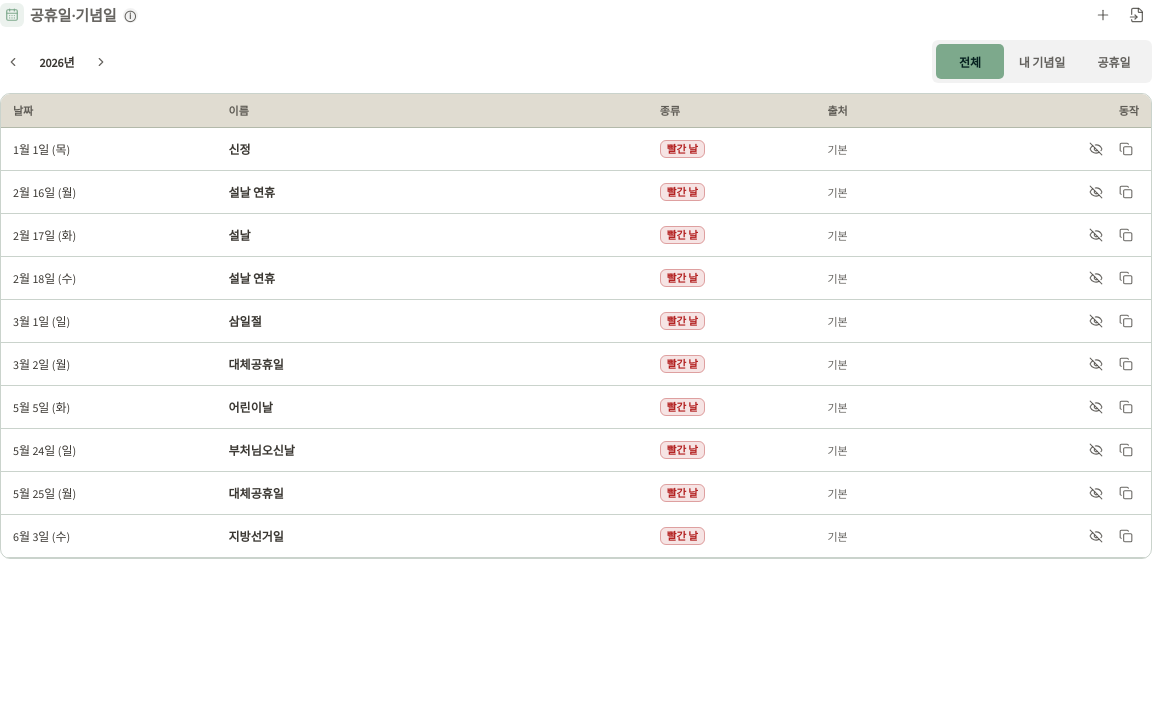
DayMarksSection — 공휴일·기념일 표 (PLAN-2026-09-19-calendar-schedule §5.2) › URL 칸이 못 읽는 주소면 주소 오류를 먼저 — 손 안 댄 이름 칸을 탓하지 않는다
The image size is (1152, 720).
Click the button with test id "day-marks-import-btn". click: (1137, 15)
box: top-left (1122, 0), bottom-right (1151, 30)
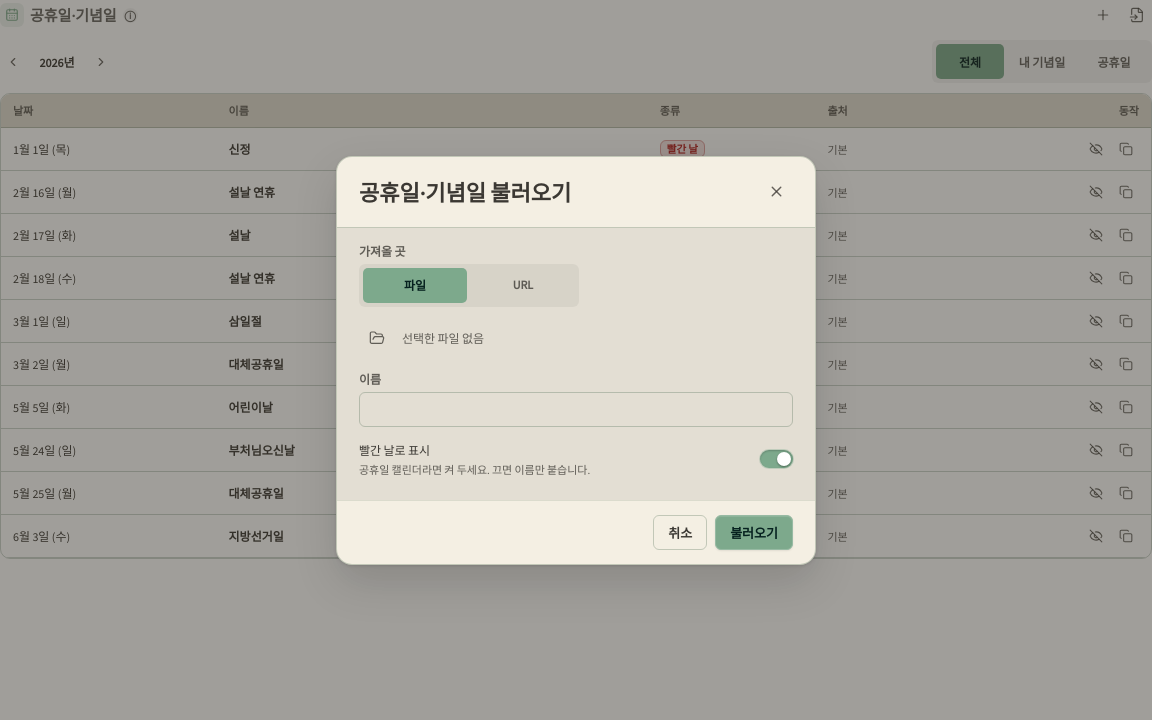
Click the radio button labelled "URL". click: (523, 285)
box: top-left (471, 268), bottom-right (575, 302)
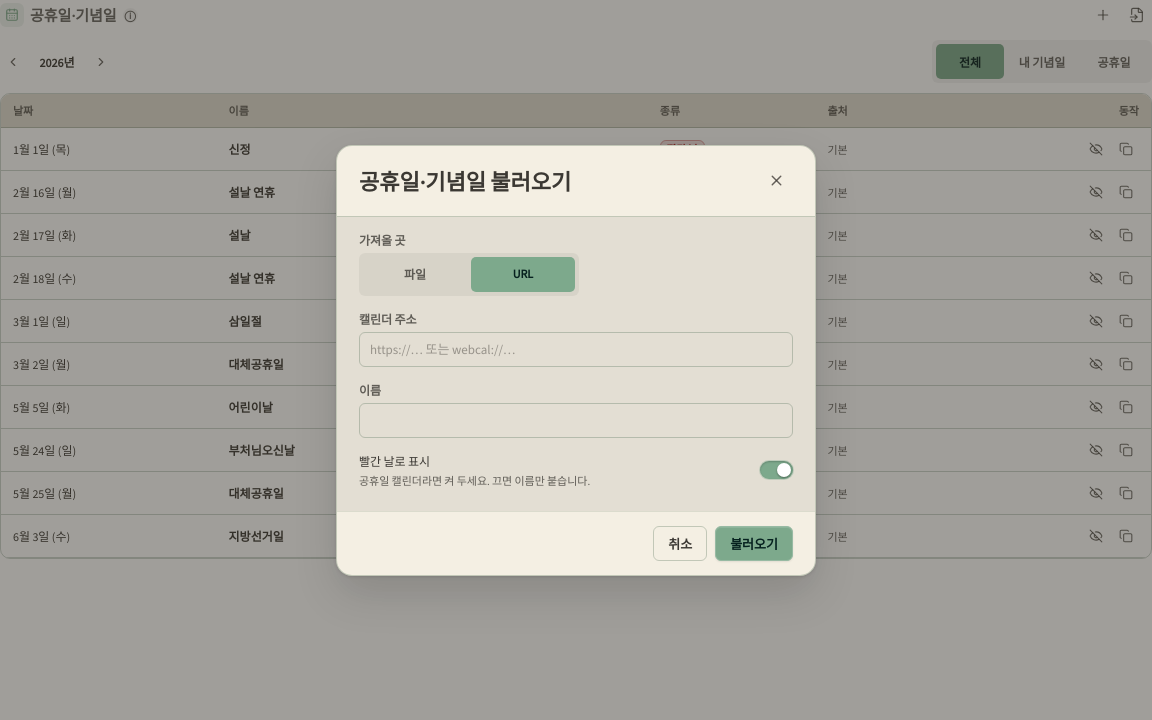
Type "not a url" into the field with test id "day-marks-import-url". click: (576, 349)
box: top-left (359, 332), bottom-right (793, 366)
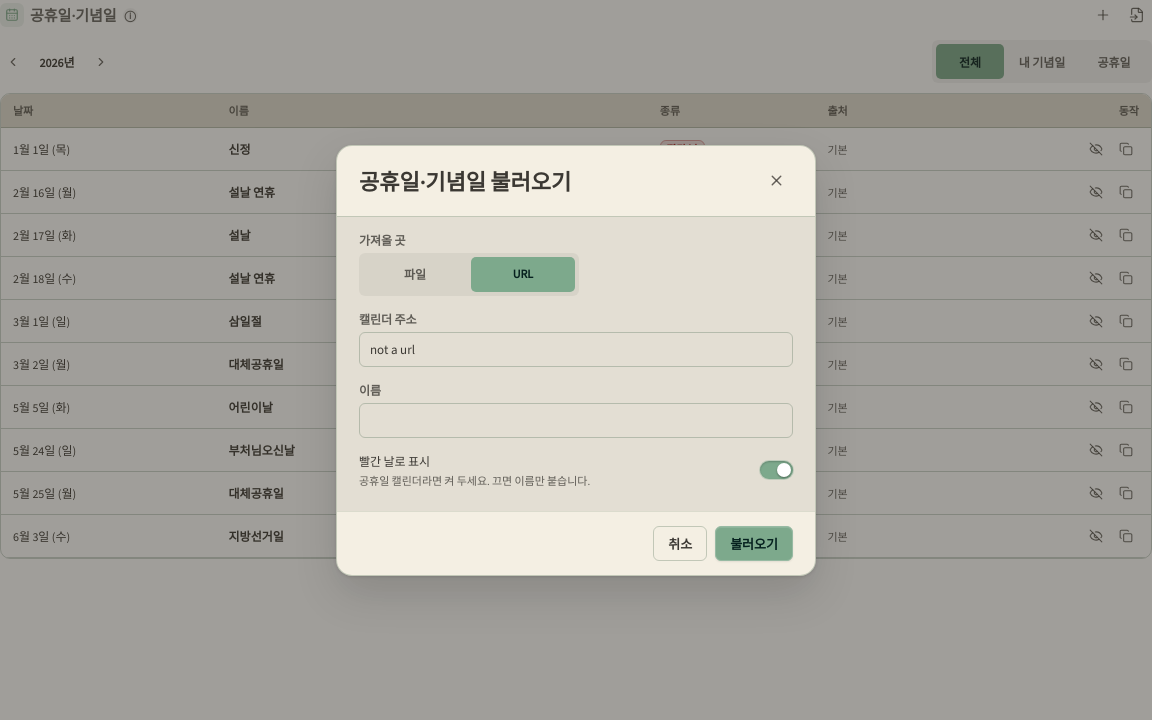
Click the button with test id "day-marks-import-submit". click: (754, 543)
box: top-left (715, 526), bottom-right (793, 560)
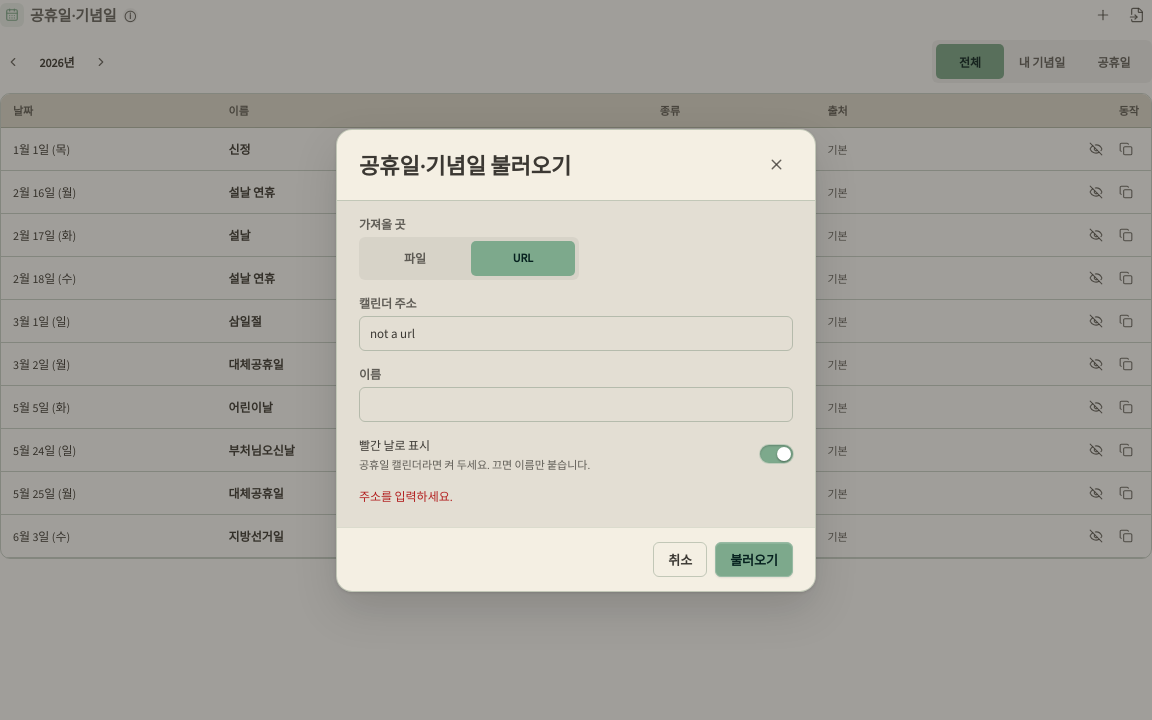
Expected: the message with test id "day-marks-import-error" shows "주소를 입력하세요", top-left (359, 488), bottom-right (453, 504)
